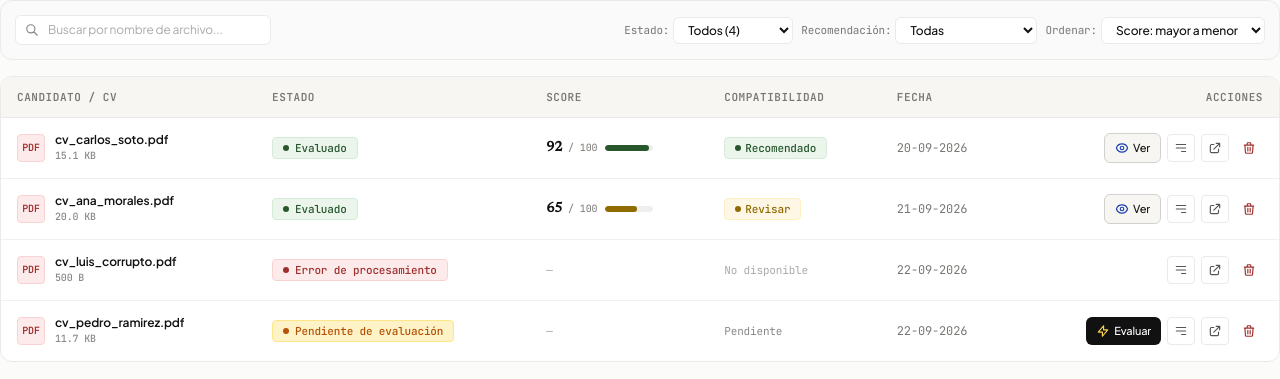
Test case: Paso 5 — Dashboard y Visualización de Resultados › 8. La búsqueda en tiempo real por nombre de archivo funciona
Type "ana" into the field with placeholder "Buscar por nombre de archivo...".
click(143, 30); type("ana")  # box x1=15 y1=15 x2=271 y2=45
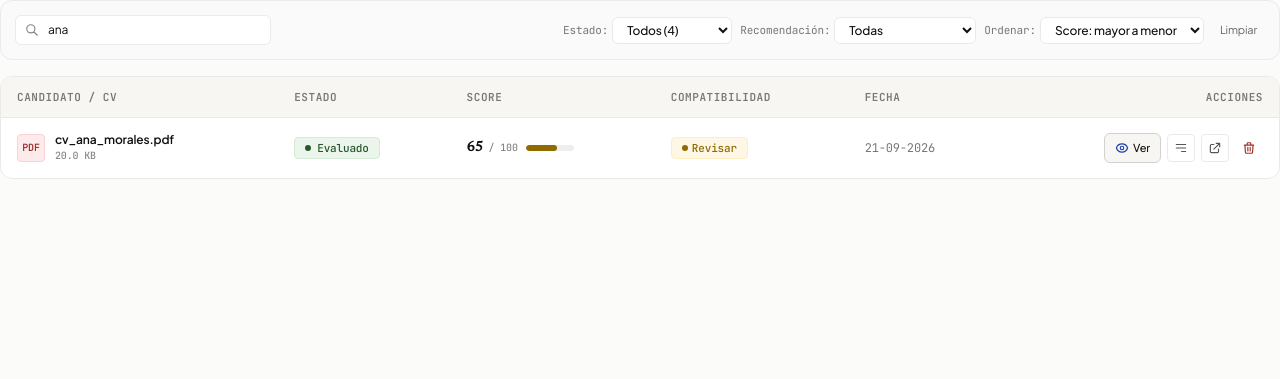
Expected: the text "cv_ana_morales.pdf" is shown, x1=55 y1=132 x2=174 y2=148
Now the text "cv_carlos_soto.pdf" is gone
